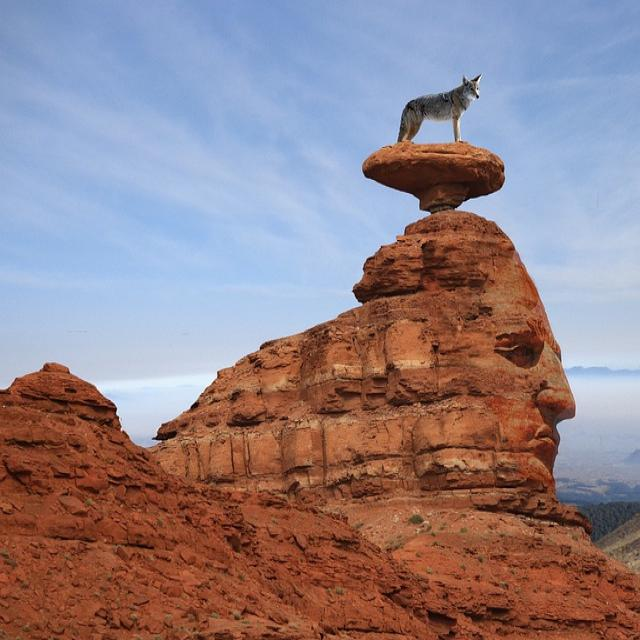Carnivorous: (396, 78, 481, 144)
